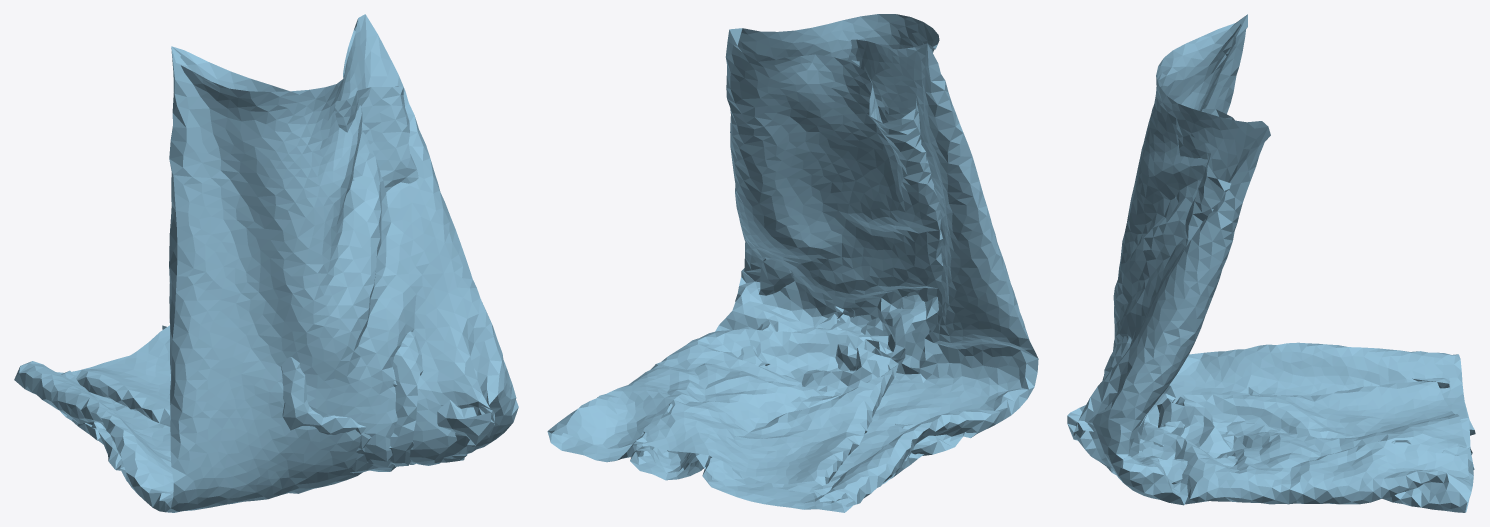
File: frame_13.glb
The picture shows the model from 3 angles, left to right: view 1: azimuth 30°, elevation 25°; view 2: azimuth 150°, elevation 25°; view 3: azimuth 270°, elevation 25°; orthographic projection. The views are drawn at different scales.
Visible parts, largest first — view 1: frame_13.obj; view 2: frame_13.obj; view 3: frame_13.obj.
Boxes of the visible parts, x1=… form: frame_13.obj: x1=14, y1=14, x2=518, y2=512; frame_13.obj: x1=547, y1=14, x2=1038, y2=512; frame_13.obj: x1=1067, y1=14, x2=1475, y2=512.
Size of the model in its own units: 0.8904 by 1.04 by 1.
